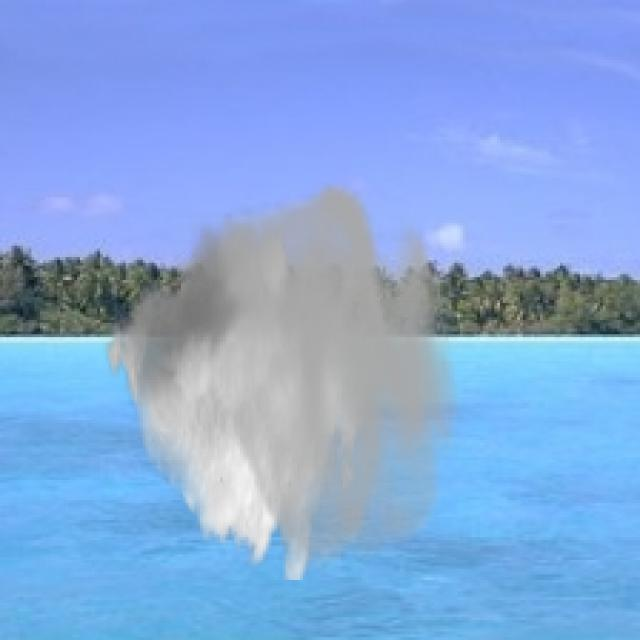Smoke: (103, 177, 460, 580)
